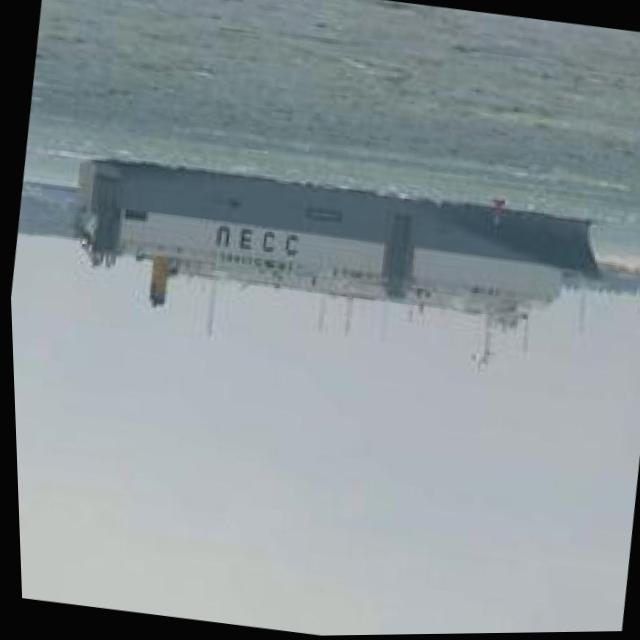ship2: (80, 159, 600, 376)
